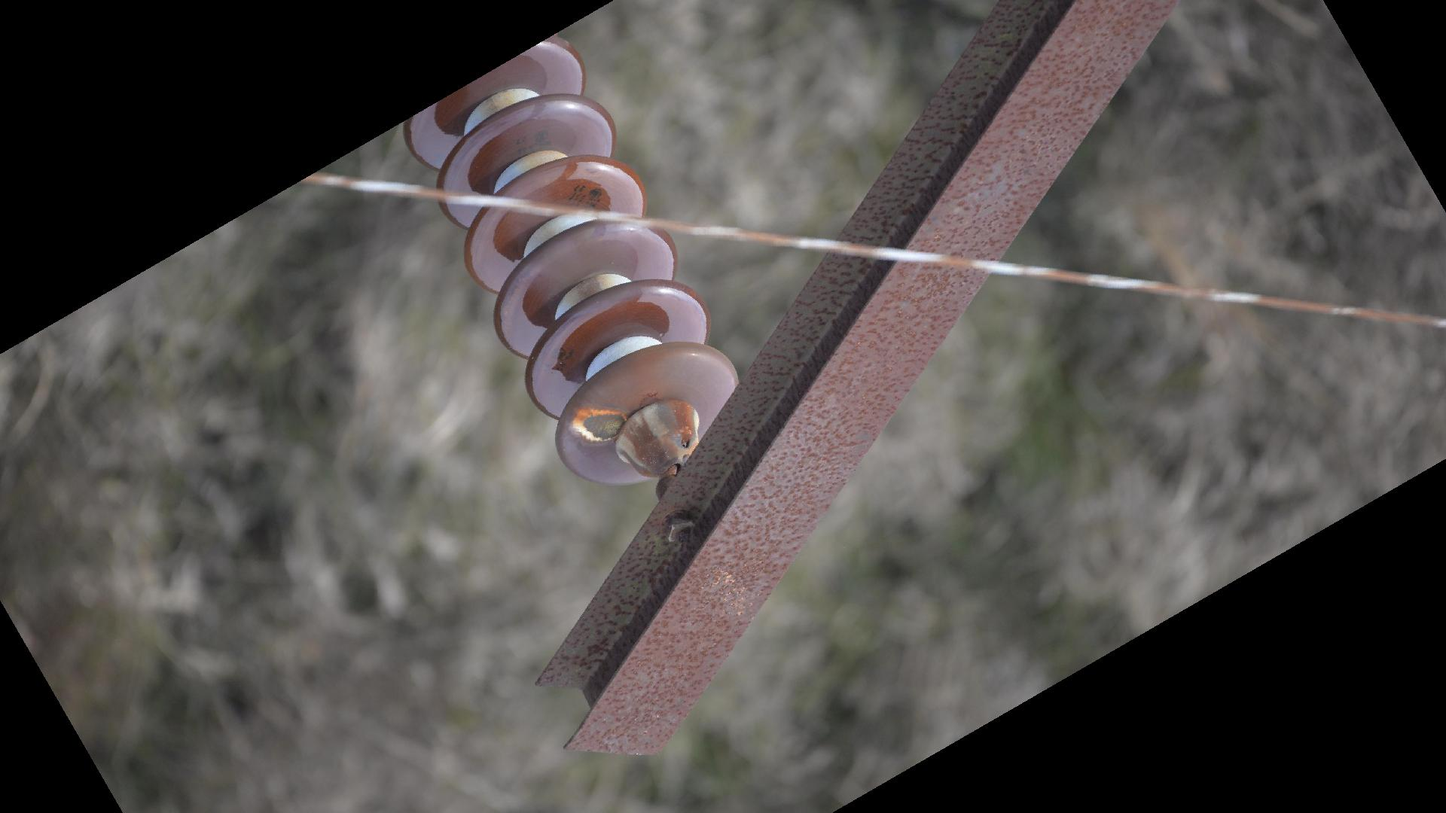insulator: (397, 31, 742, 494)
insulator_flashover: (574, 406, 629, 445)
